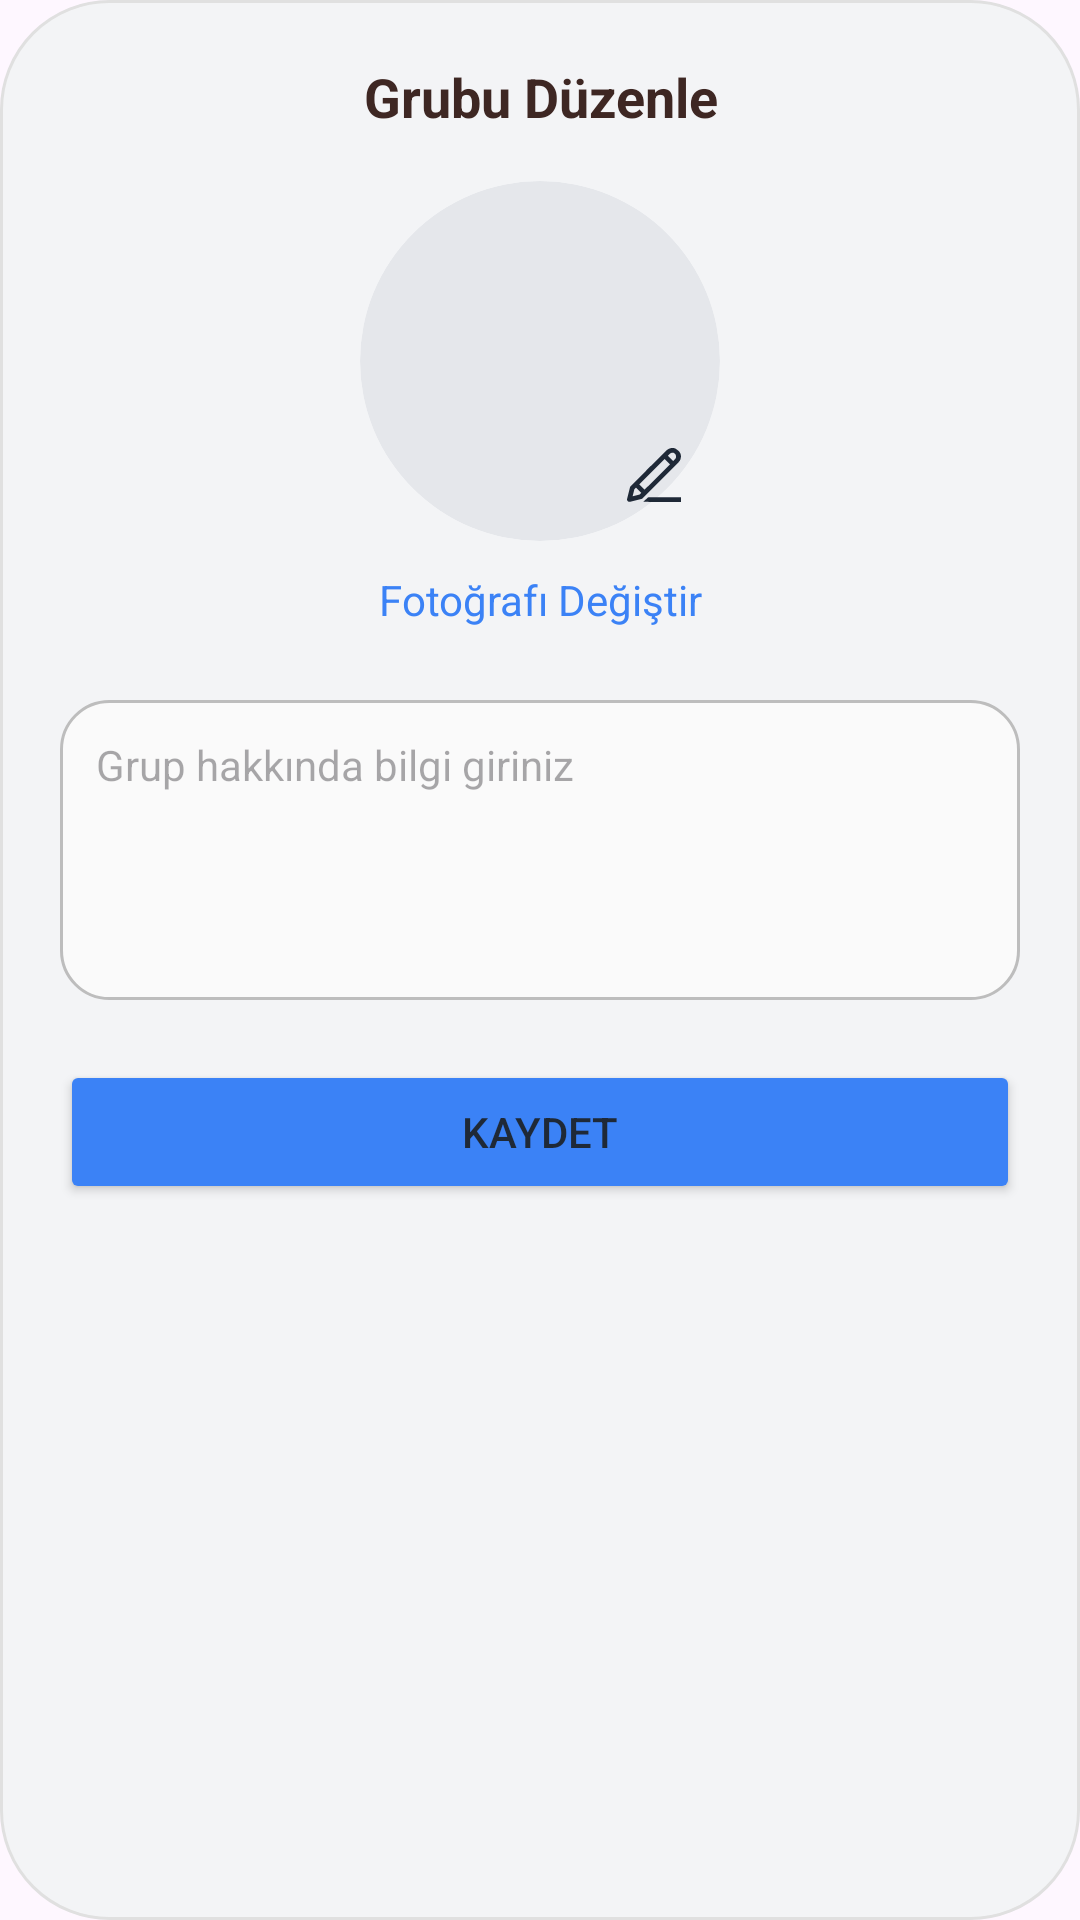

Named icons in this screenshot (1080px x 1920px) and their bounding boxes, (left=x1, top=y1, right=x2, bottom=y2):
Fotoğraf Değiştir: (left=627, top=448, right=681, bottom=502)
